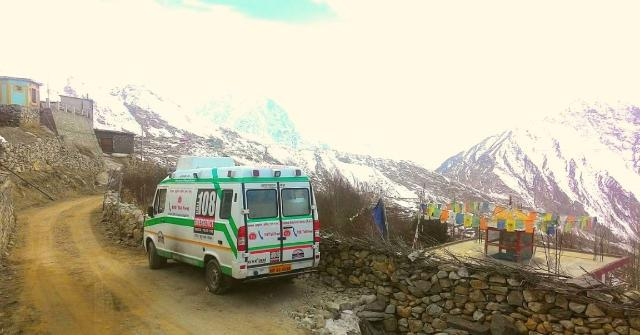ambulance: (136, 149, 342, 296)
